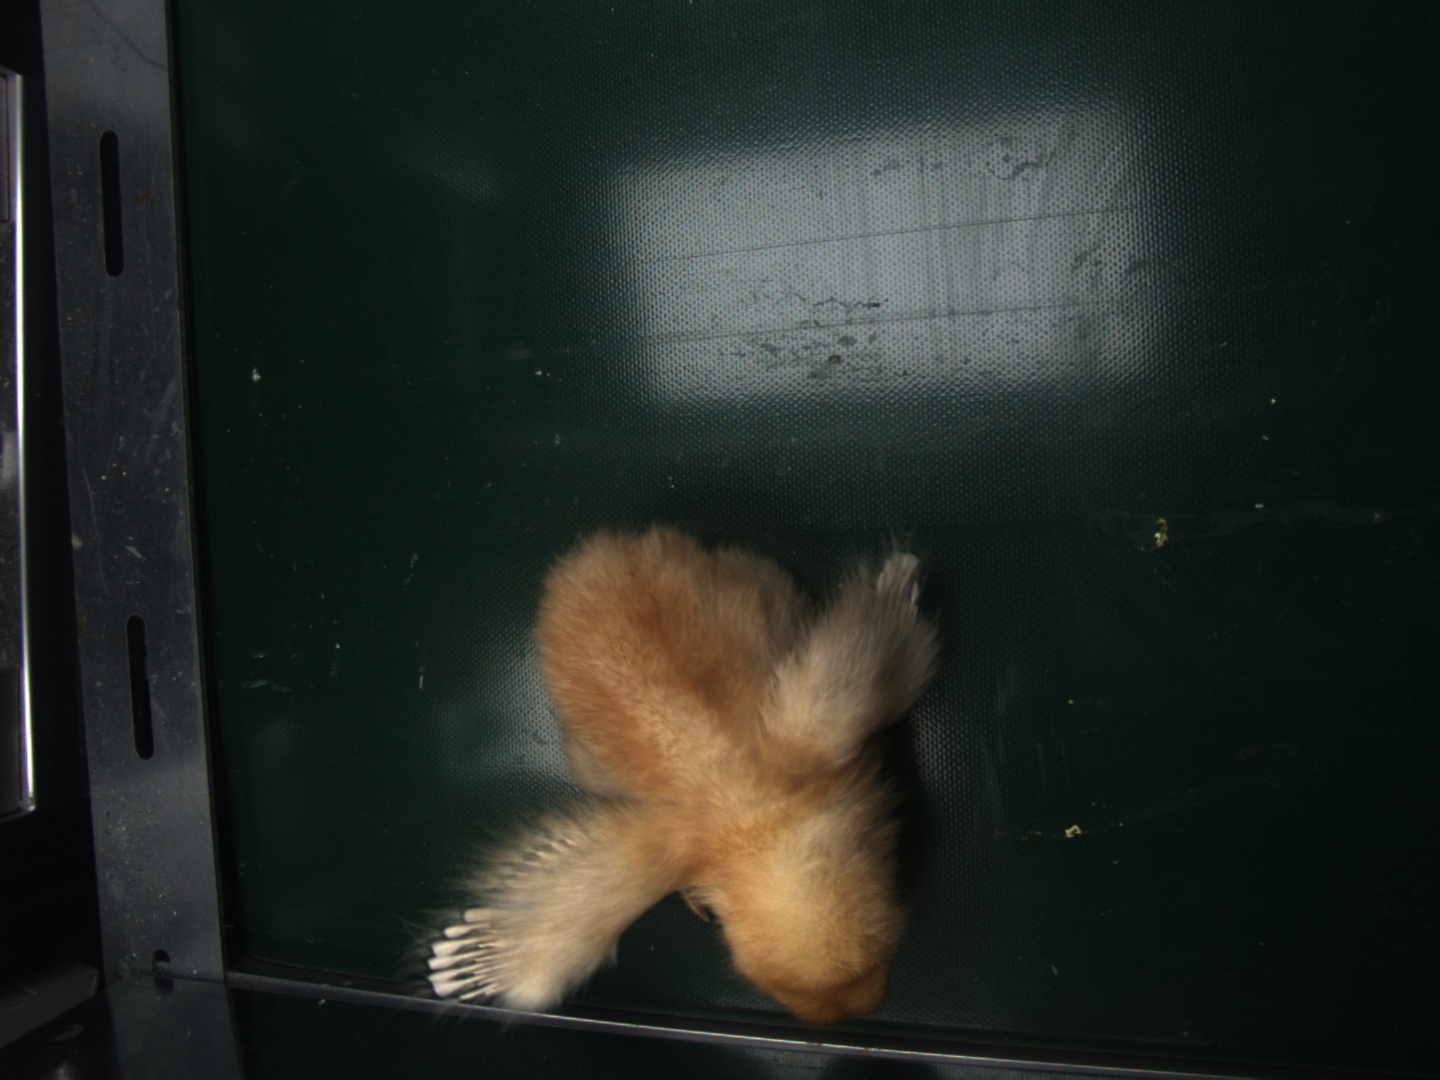female: (425, 916, 509, 1001)
